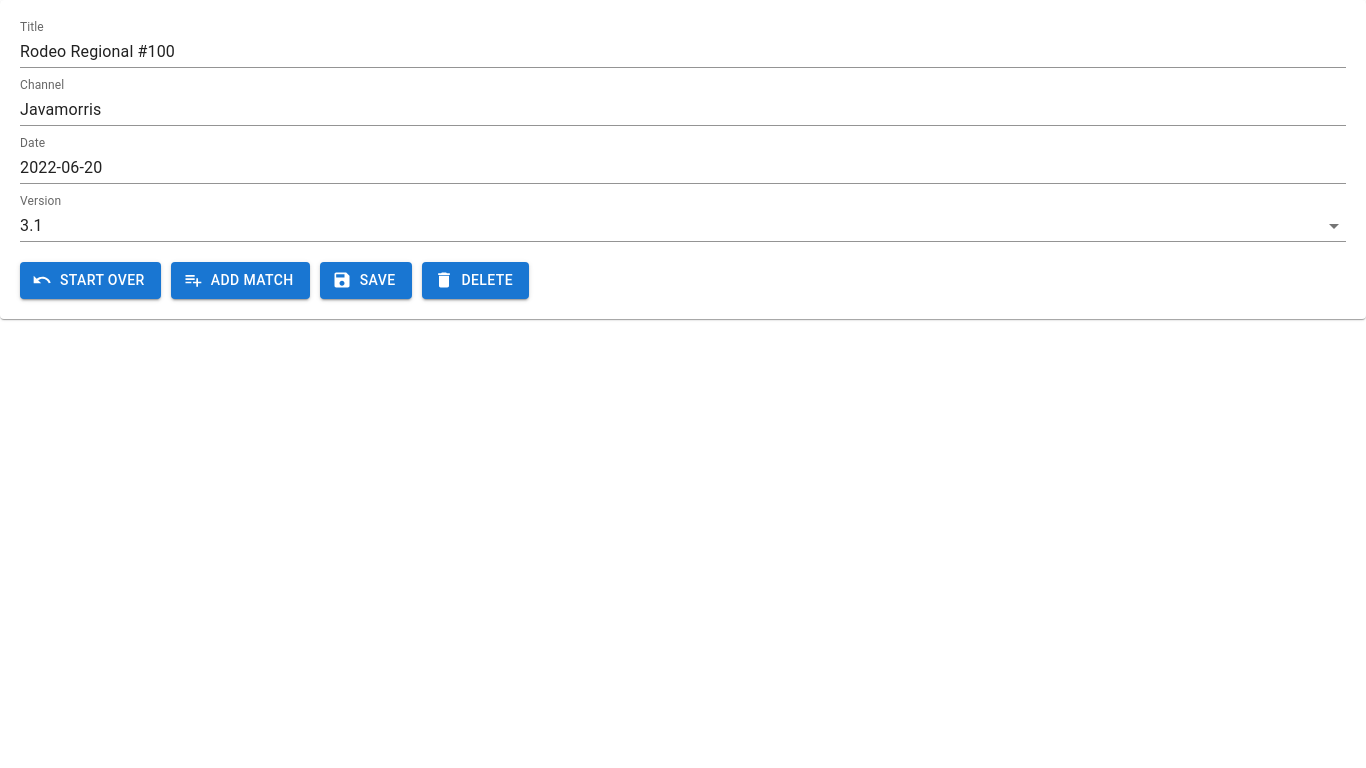
Timestamps › rejects a tournament with two invalid matches
This screenshot has width=1366, height=768.
Click the button "Add Match" at (240, 280), box [171, 262, 310, 298]
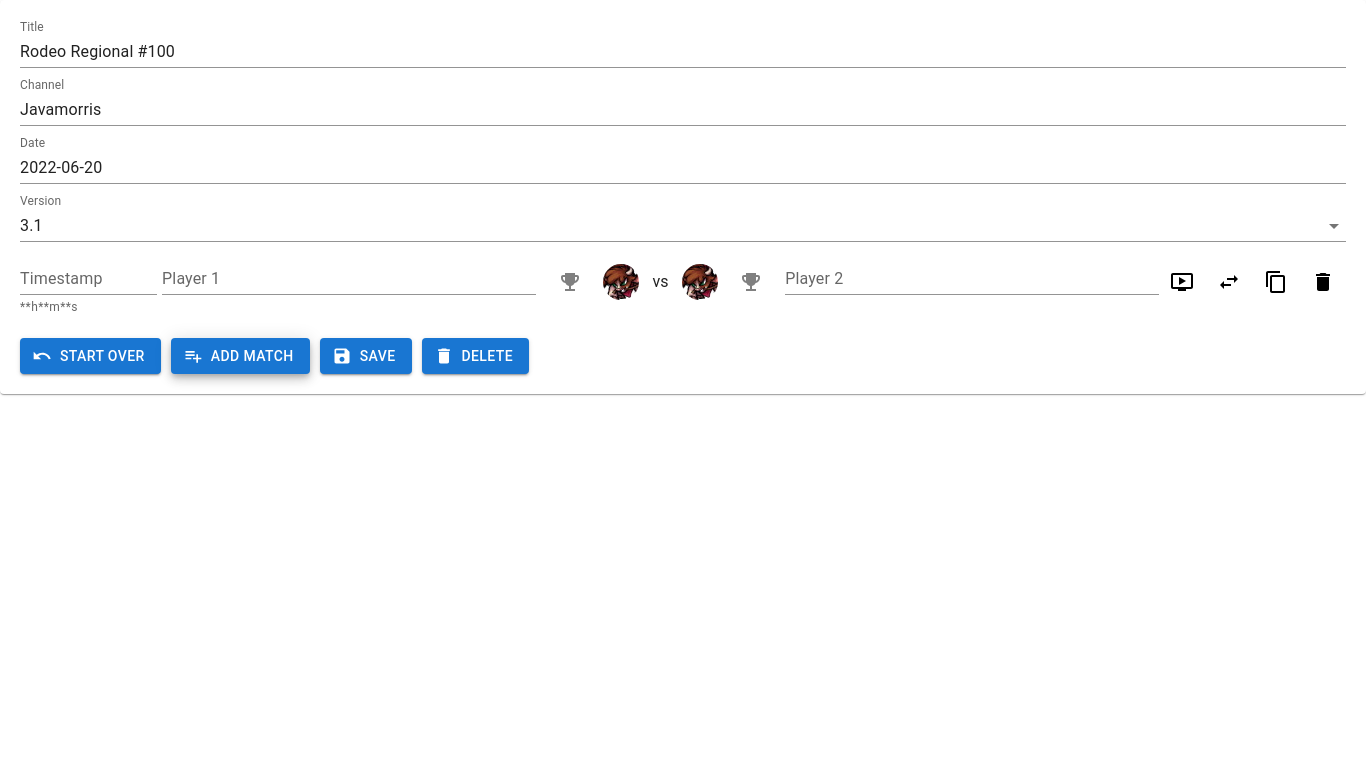
Click the button "Add Match" at (240, 356), box [171, 338, 310, 374]
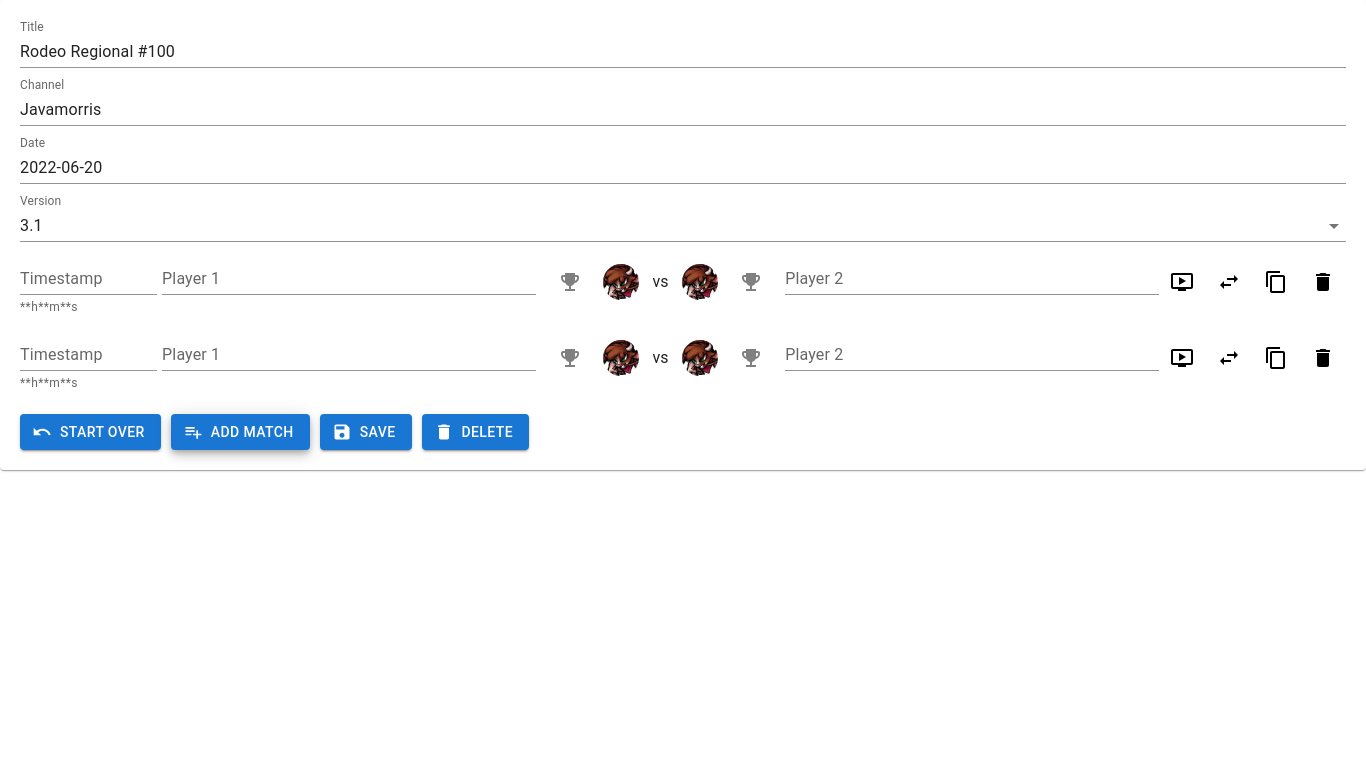
Now the number of elements with test id "timestamp-row" is 2, box [20, 247, 1346, 318]; [20, 323, 1346, 394]
Type "asdf" into the 1st field labelled "Timestamp" at (89, 279), box [20, 263, 157, 295]
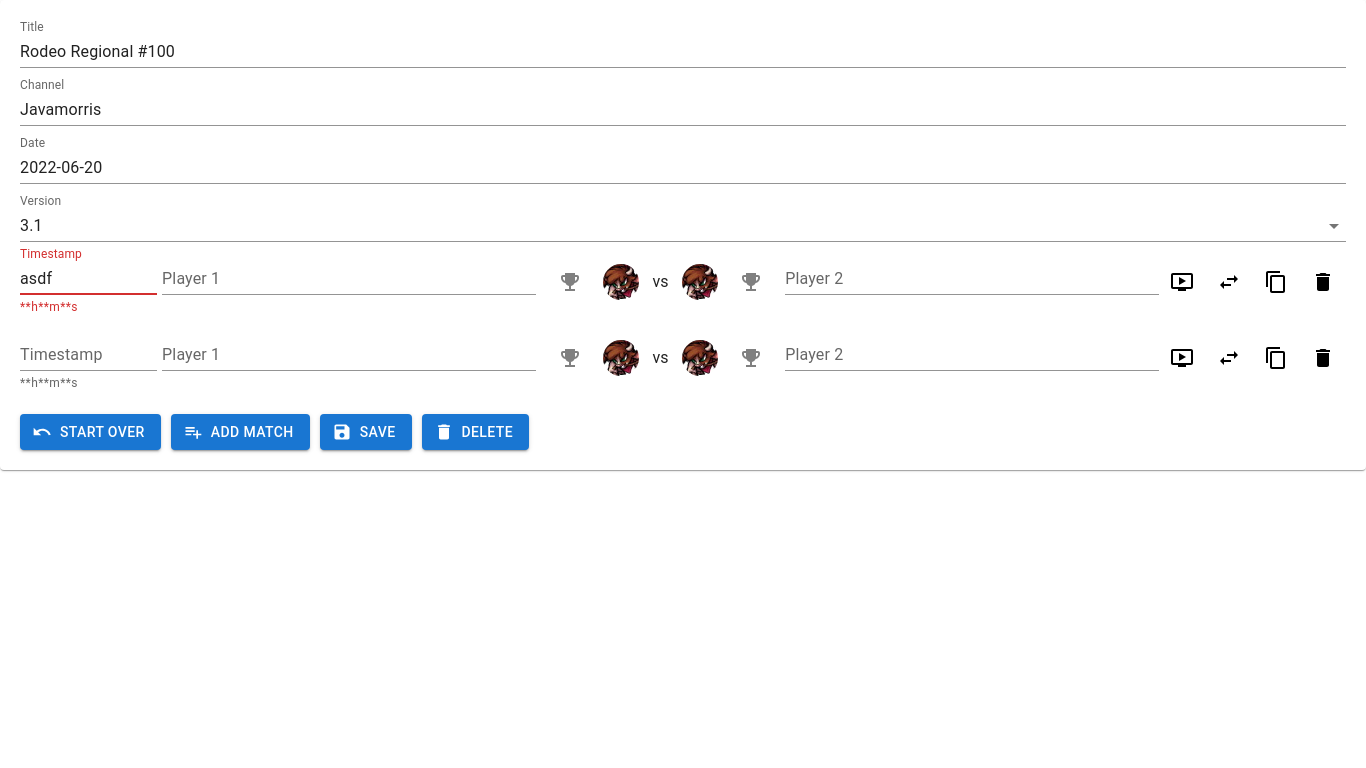
Type "player 1" into the element with test id "player1-textfield" showing "Player 1" at (334, 278), box [162, 263, 506, 294]
Click the 1st button titled "Did Player 1 Win?" at (570, 282), box [550, 262, 590, 302]
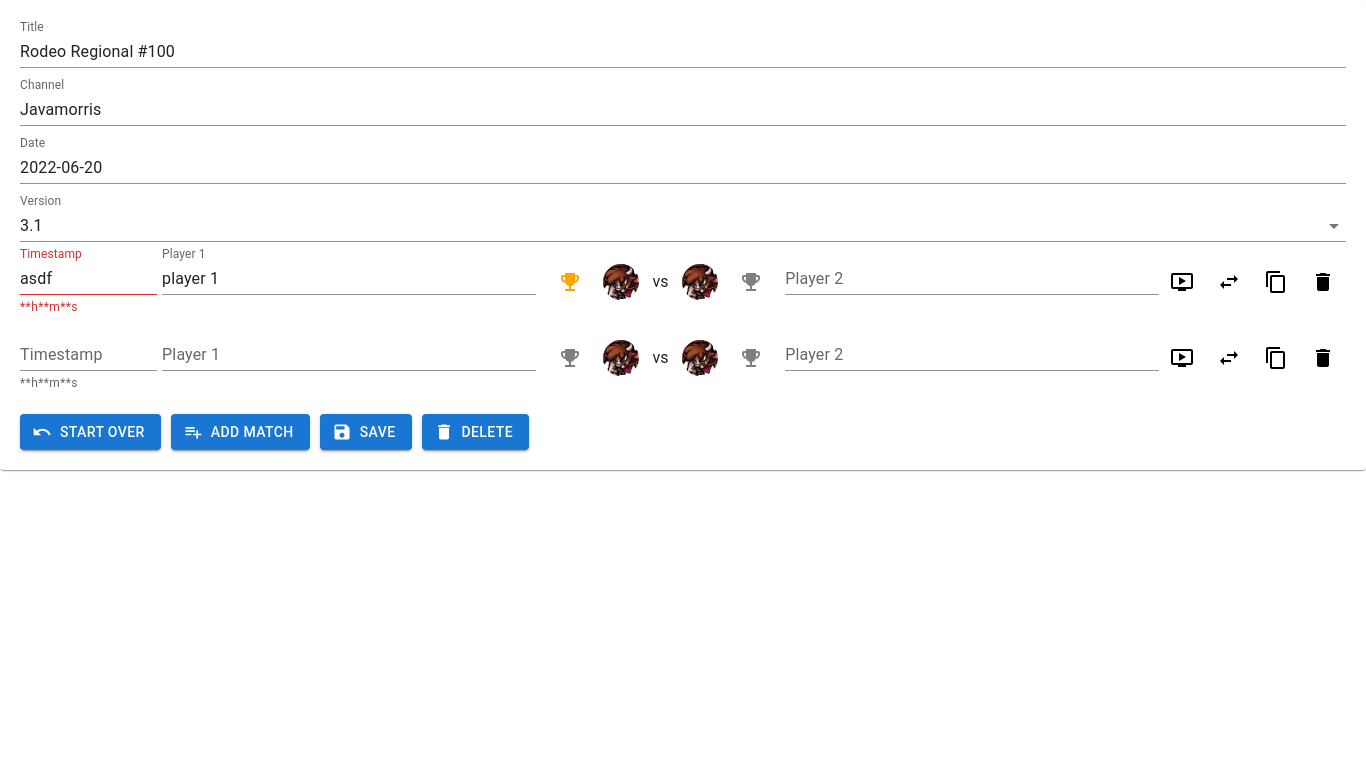
Type "01h23m45s" into the 2nd field labelled "Timestamp" at (89, 355), box [20, 339, 157, 371]
Type "player 2" into the element with test id "player2-textfield" showing "Player 2" at (957, 354), box [785, 339, 1129, 370]
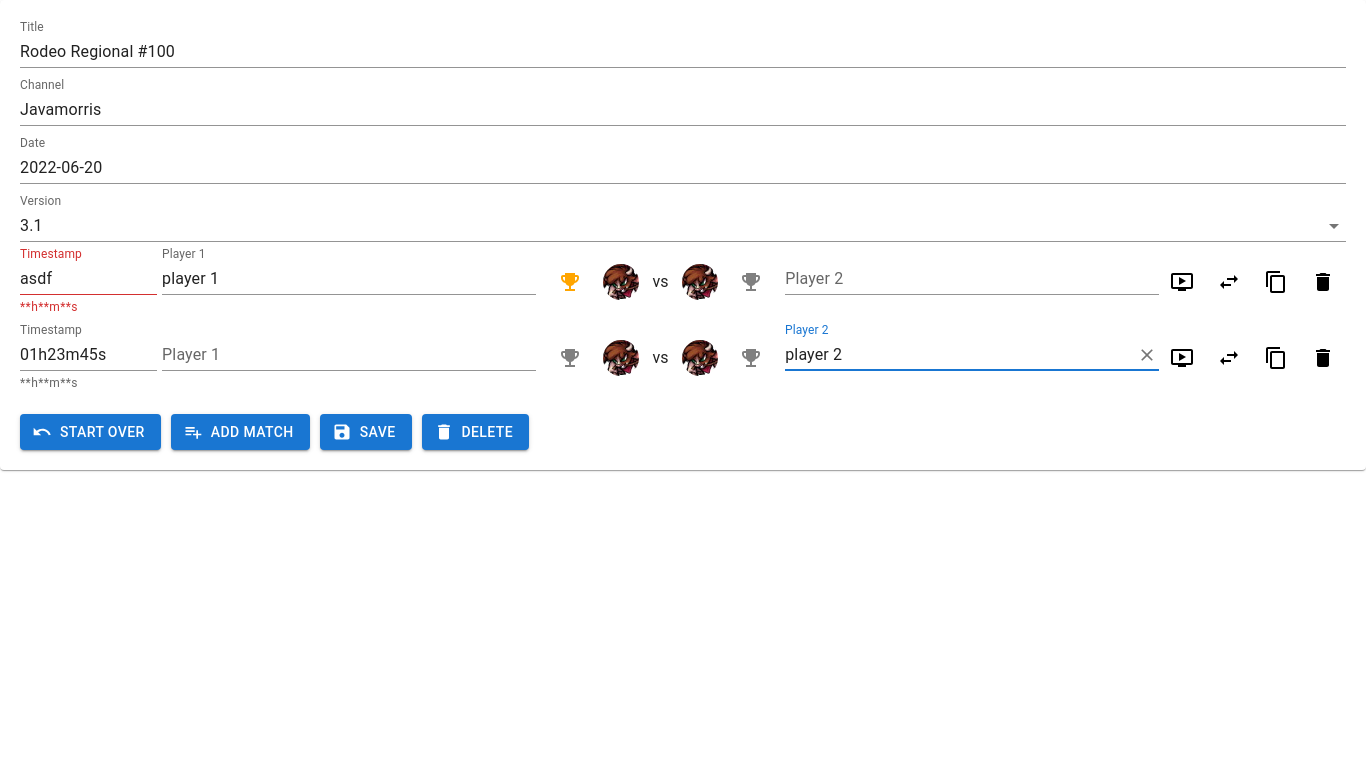
Click the button "Save" at (366, 432), box [320, 414, 412, 450]
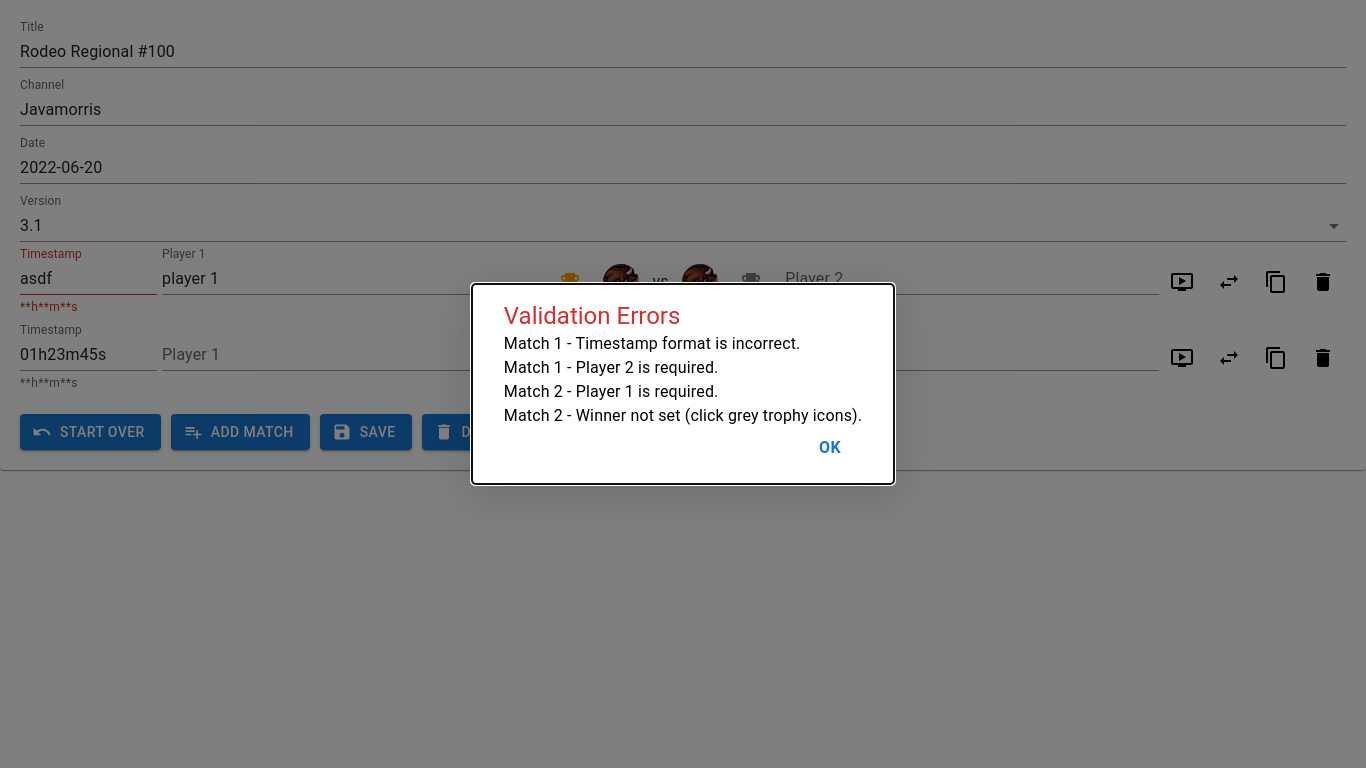
Now the number of elements with test id "validation-error" is 4, box [504, 334, 800, 353]; [504, 358, 718, 377]; [504, 382, 718, 401]; [504, 404, 862, 428]
Now the text "Match 1 - Timestamp format is incorrect." is shown, box [504, 334, 800, 353]
Now the text "Match 1 - Player 2 is required." is shown, box [504, 358, 718, 377]
